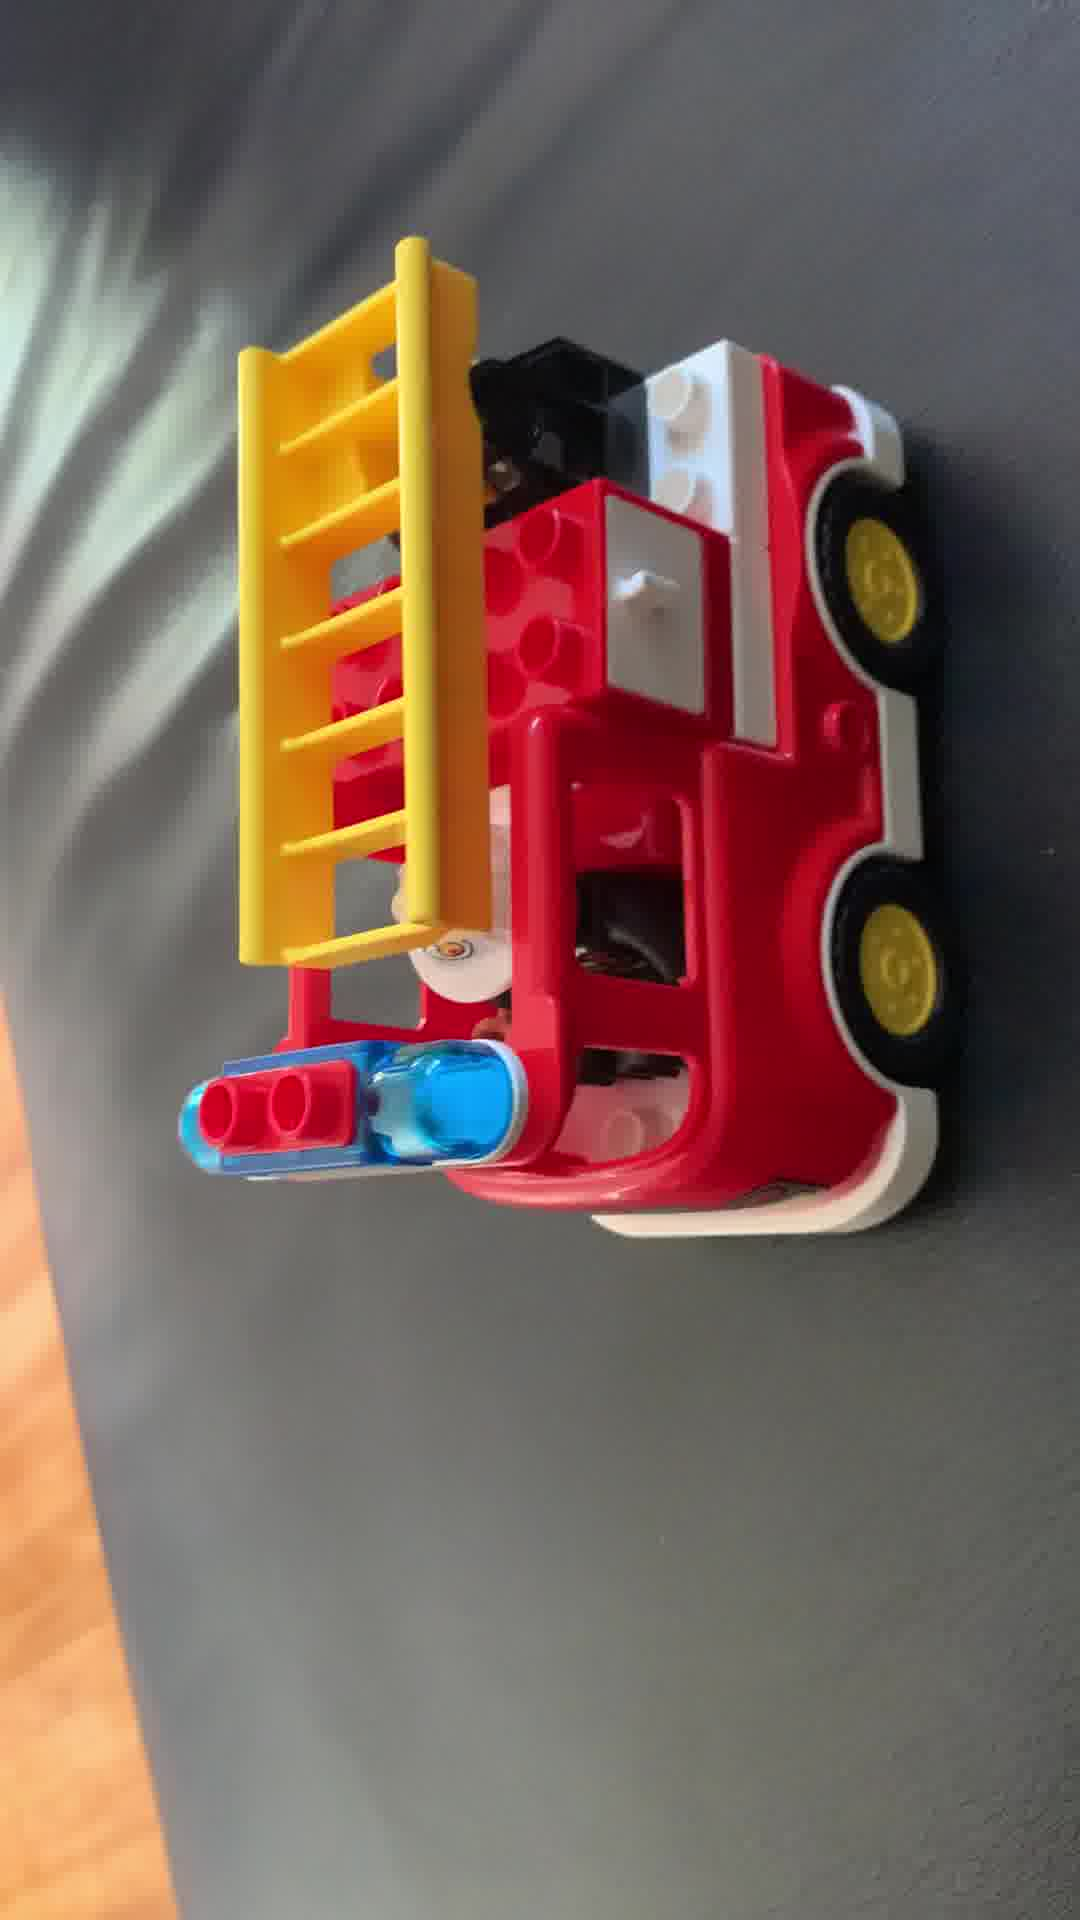lego fire truck: (183, 229, 968, 1251)
